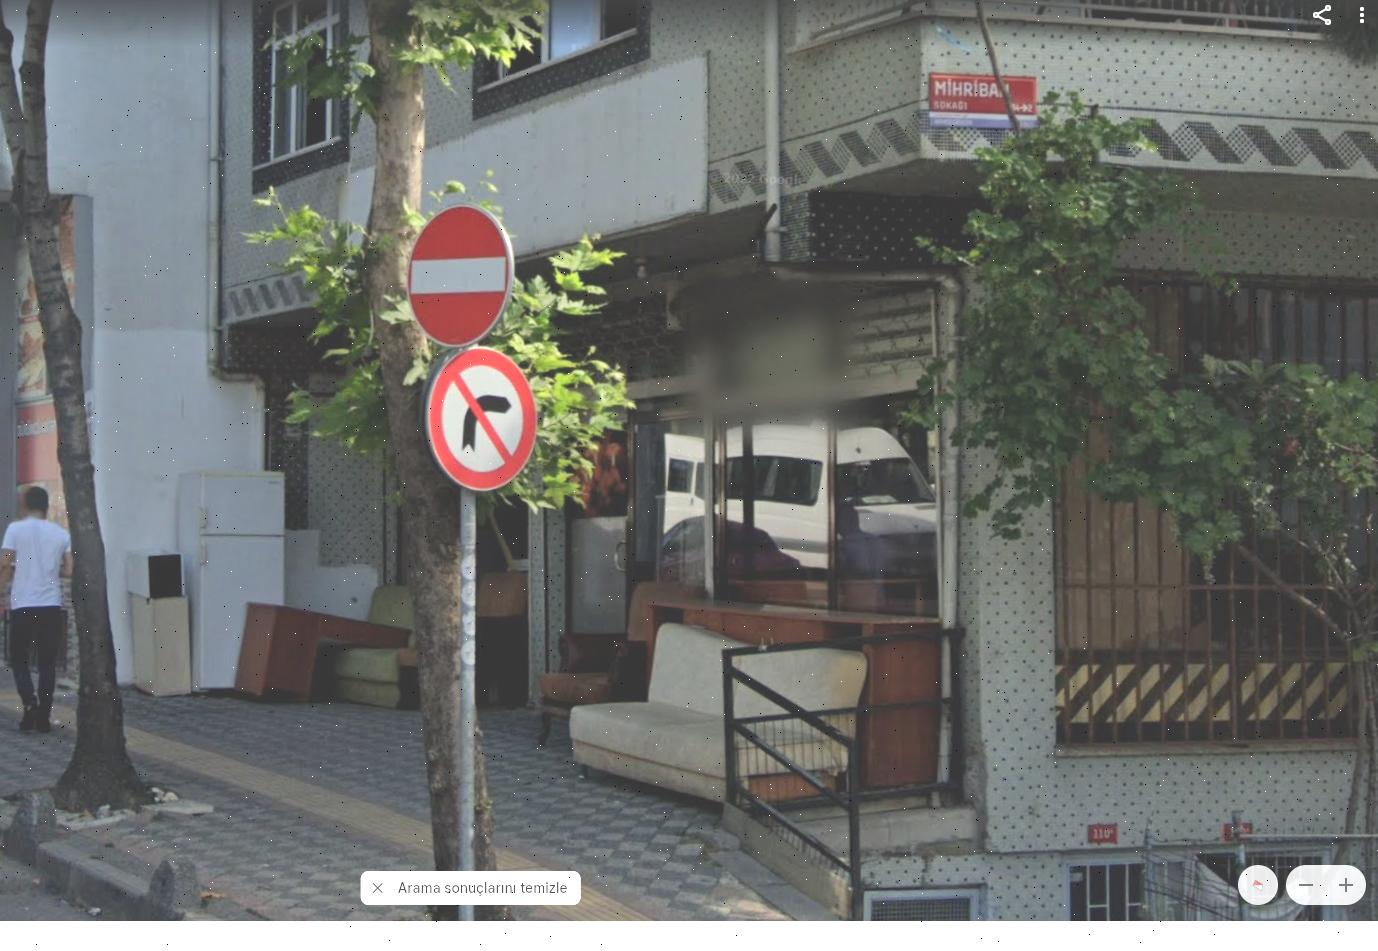rightturnsareforbidden: (431, 350, 533, 487)
